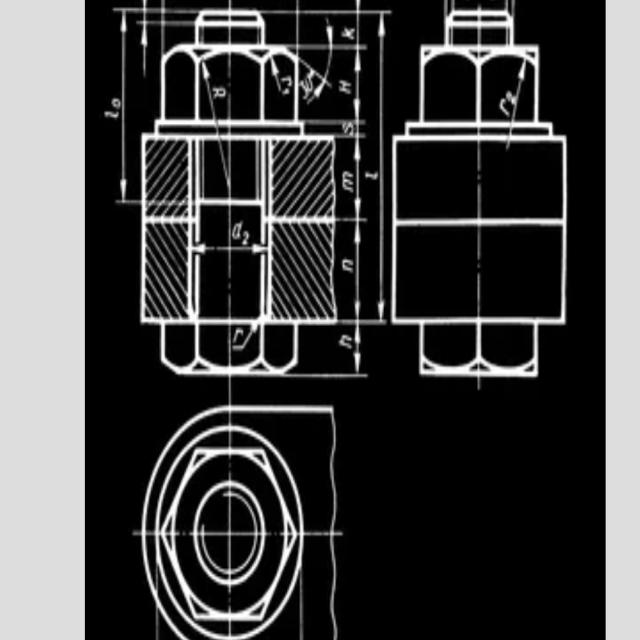marking_line: (340, 9, 390, 346), (340, 0, 368, 382), (111, 4, 141, 206), (306, 43, 367, 126), (111, 1, 193, 42), (338, 315, 369, 380), (496, 62, 527, 120), (137, 0, 159, 76), (191, 241, 267, 258), (271, 59, 289, 95)
